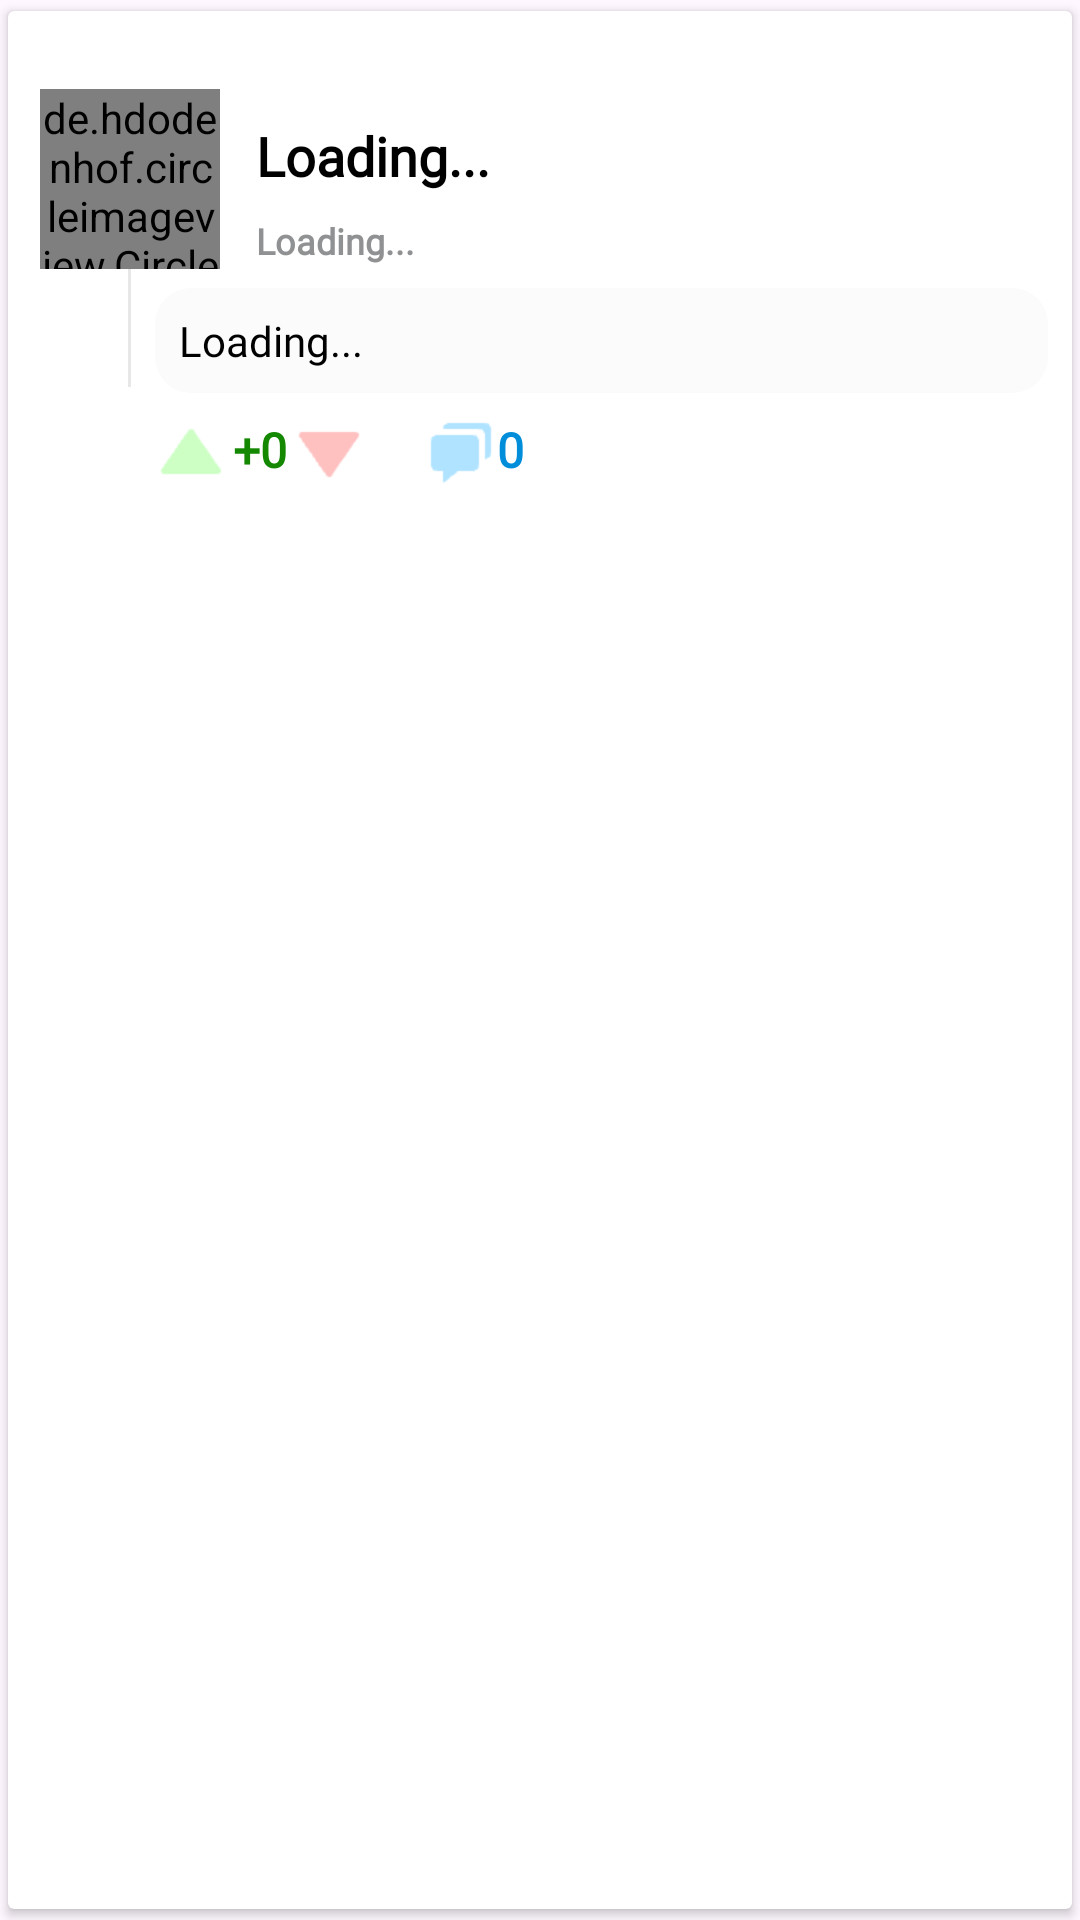

Icons on this 1080px×1920px Android screen, each with its box as bbox(x1, y1, x2, y2):
comments: bbox(431, 423, 491, 483)
down vote: bbox(299, 432, 359, 477)
up vote: bbox(161, 429, 221, 474)
